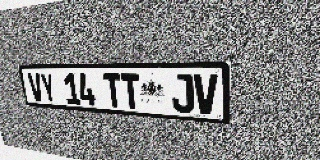1: (62, 73, 81, 105)
4: (77, 73, 96, 106)
J: (171, 74, 194, 113)
T: (120, 74, 141, 109), (103, 73, 123, 108)
V: (194, 74, 218, 115), (27, 73, 45, 102)
Y: (39, 73, 57, 103)
